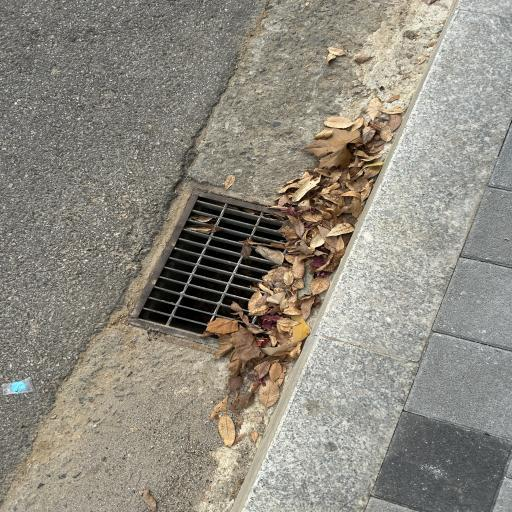debris: (205, 210, 348, 359), (191, 225, 212, 233), (190, 216, 211, 221)
drain: (126, 189, 348, 366)
